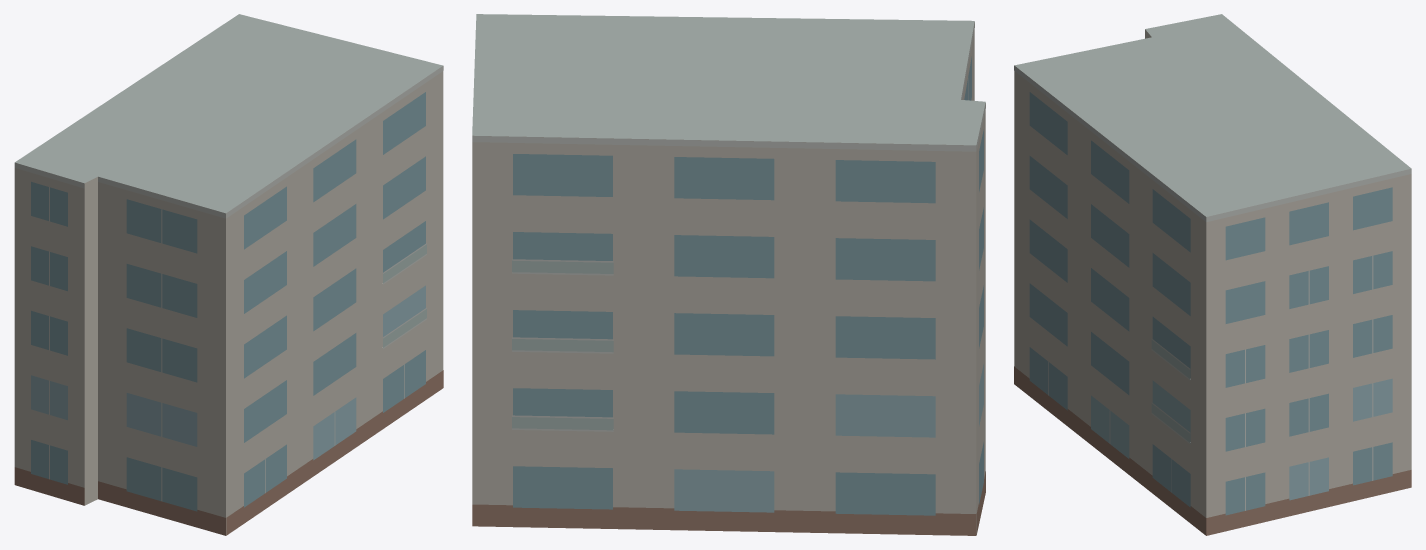
The model's file is survey-upis-32760866.glb.
3 renders of one model, left to right at view 1: azimuth 30°, elevation 25°; view 2: azimuth 150°, elevation 25°; view 3: azimuth 270°, elevation 25°, orthographic. The views are drawn at different scales.
Parts seen in each view (by area): view 1: survey-upis-32760866.tmp; view 2: survey-upis-32760866.tmp; view 3: survey-upis-32760866.tmp.
Boxes of the visible parts, x1,y1,x2,y2 form: survey-upis-32760866.tmp: (14,14,443,535); survey-upis-32760866.tmp: (472,14,985,535); survey-upis-32760866.tmp: (1014,14,1411,535).
Bounding box in the file's own units: 20.36 × 14.9 × 16.84.
